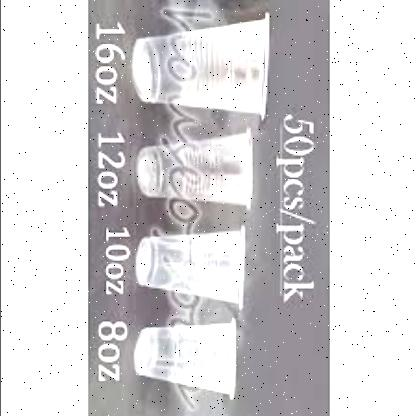Others: (128, 13, 272, 130), (136, 227, 248, 309), (137, 133, 259, 207), (134, 319, 238, 397)
